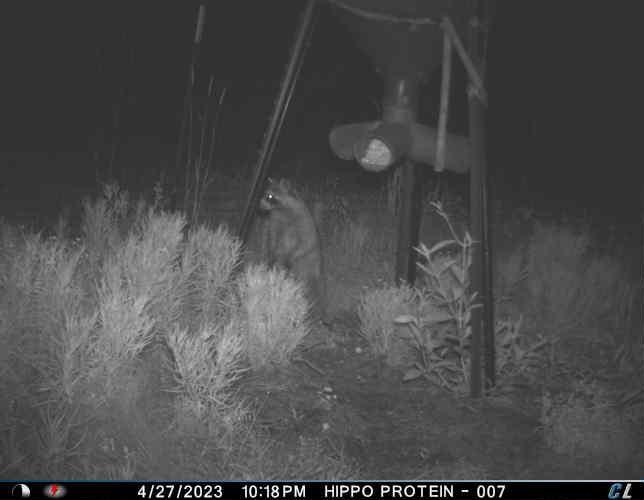Raccoon: (254, 174, 339, 329)
